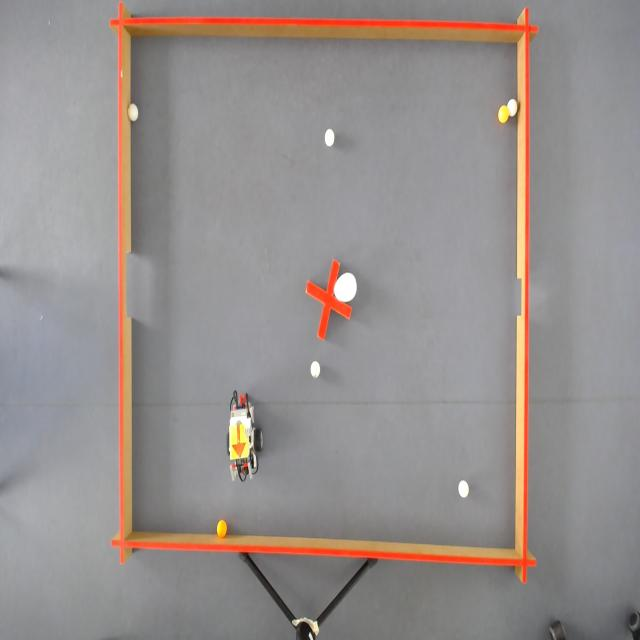cross: (306, 257, 353, 342)
egg: (332, 270, 358, 305)
orange_ball: (216, 517, 228, 539), (498, 104, 510, 124)
robot: (229, 421, 249, 460)
white_ball: (457, 478, 470, 501), (323, 126, 336, 148), (309, 359, 322, 381), (507, 97, 519, 119), (128, 102, 140, 123)
